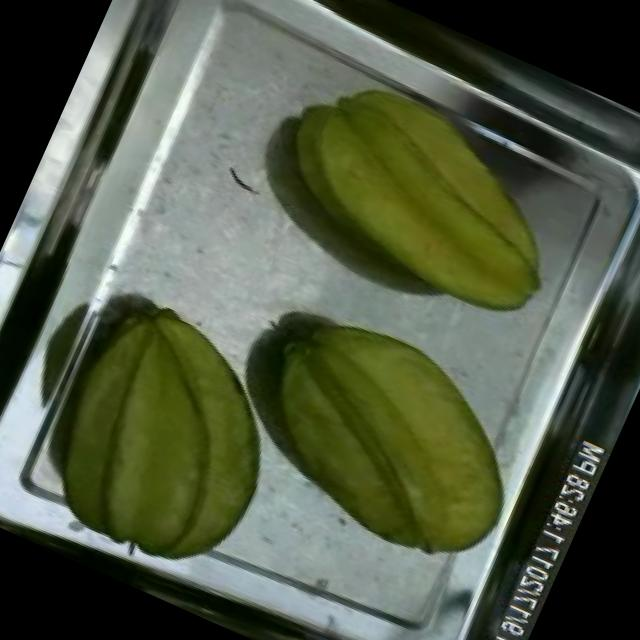fruit: (242, 45, 605, 344), (213, 280, 558, 589), (12, 273, 328, 602)
